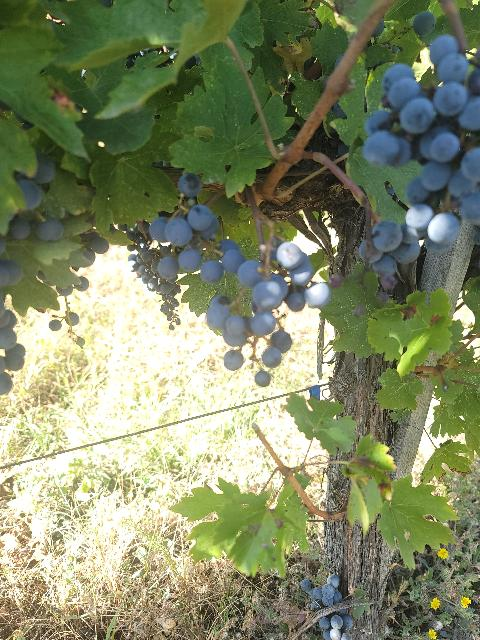grapes: (362, 35, 480, 245), (208, 241, 330, 369)
